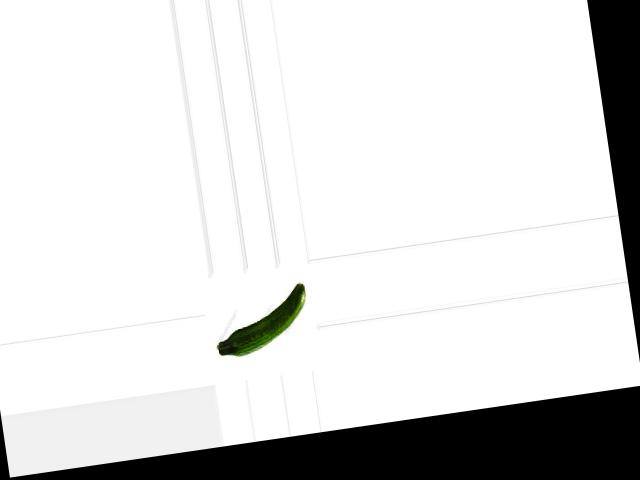cucumber: (208, 282, 312, 359)
